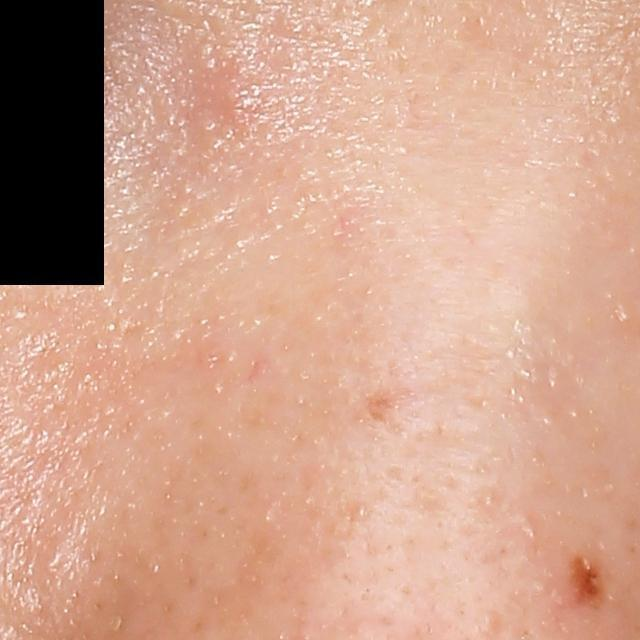comedo: (475, 608, 501, 640)
nevus: (566, 549, 608, 614)
